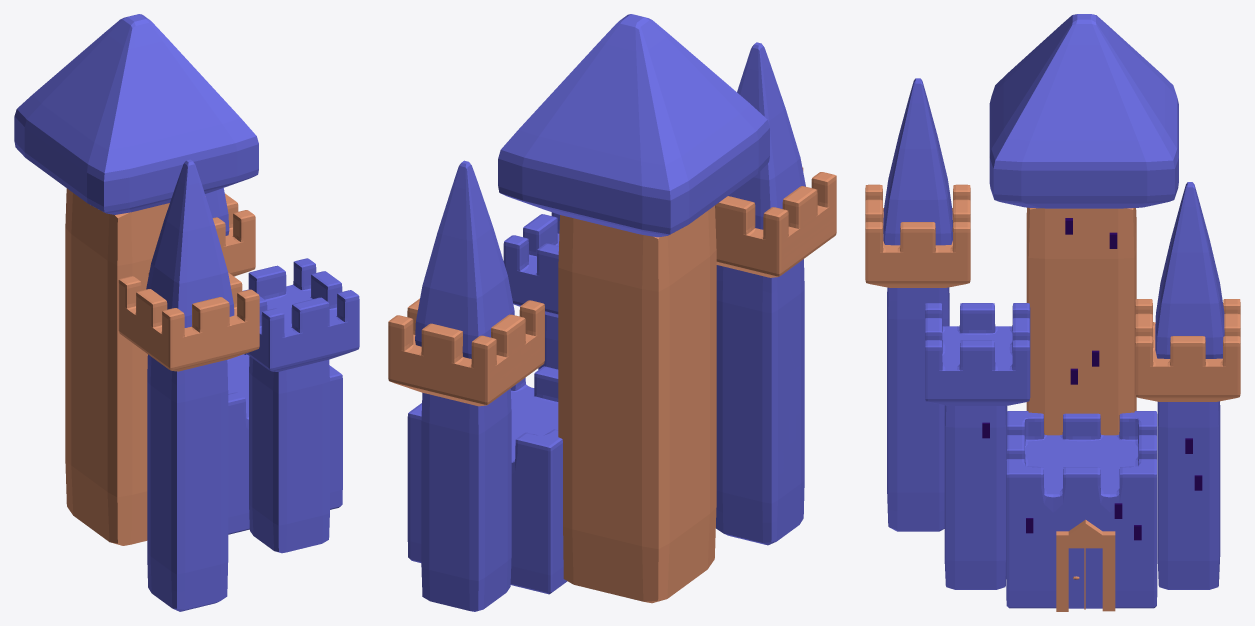
Rendered from M_Castle.fbx.
3 views of the same model, side by side, from view 1: azimuth 30°, elevation 25°; view 2: azimuth 150°, elevation 25°; view 3: azimuth 270°, elevation 25° (orthographic). The views are drawn at different scales.
Visible parts, largest first — view 1: Material 2, Material 1; view 2: Material 2, Material 1; view 3: Material 2, Material 1, Material 3.001.
Boxes of the visible parts, x1,y1,x2,y2 form: Material 2: (14, 14, 359, 611); Material 1: (65, 188, 259, 545); Material 2: (407, 14, 805, 611); Material 1: (388, 167, 836, 603); Material 2: (883, 14, 1224, 608); Material 1: (865, 184, 1240, 611); Material 3.001: (982, 218, 1202, 540).
Size of the model in its own units: 479 by 915 by 597.
